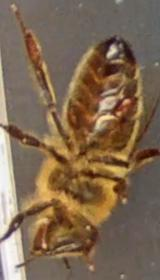varroa_mite: (103, 85, 149, 130)
